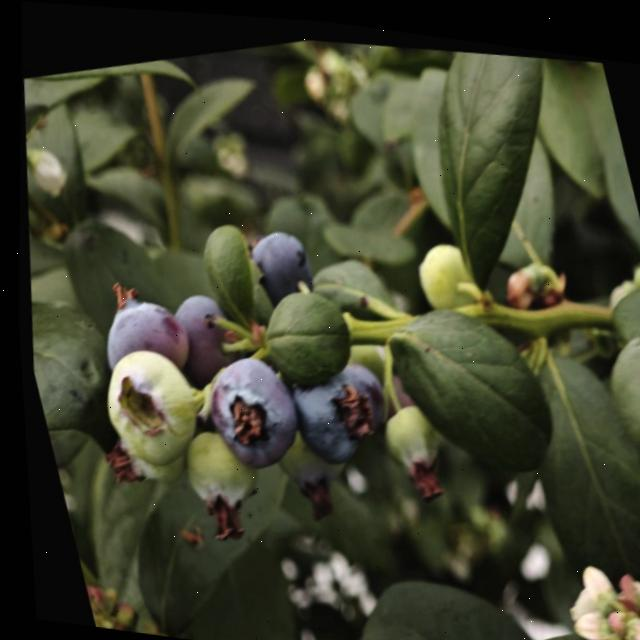RipeBlueBerry: (184, 332, 305, 475), (269, 343, 378, 468), (235, 208, 317, 299)
Semi-RipeBlueBerry: (71, 263, 192, 374)
UnripeBlueBerry: (75, 323, 209, 472)
